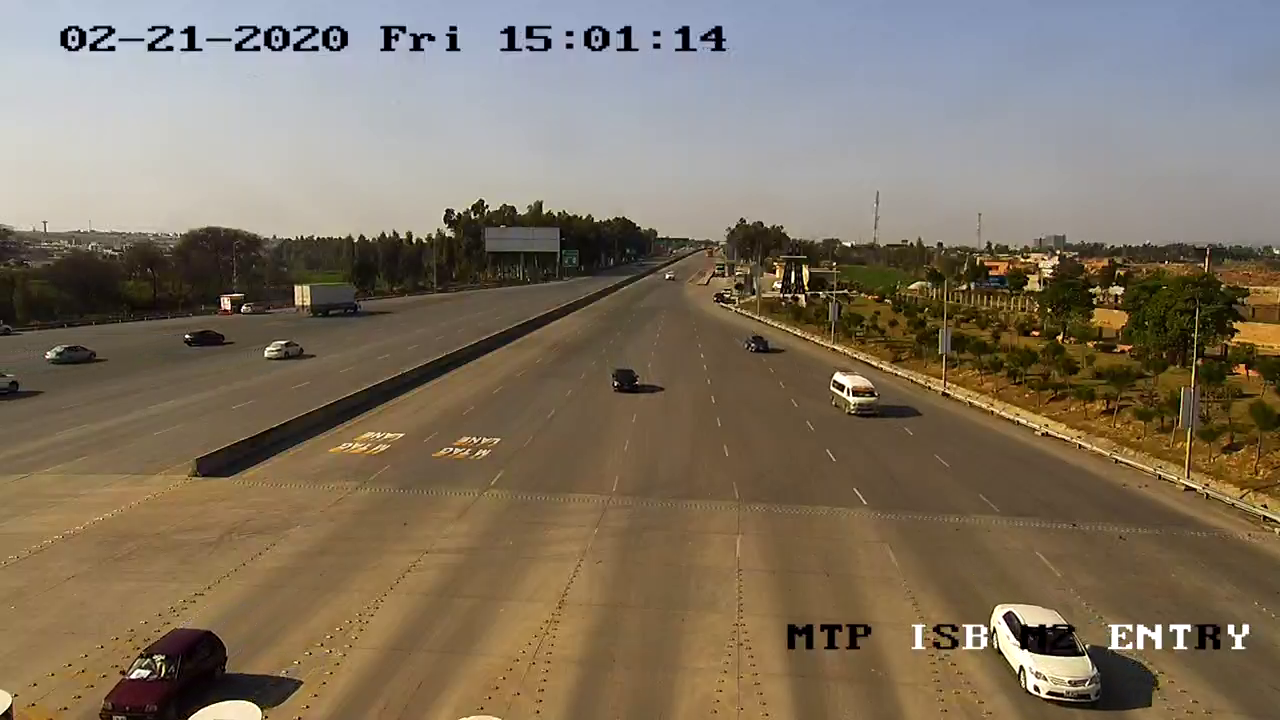f1: (600, 360, 645, 408)
f3: (817, 364, 892, 429)
